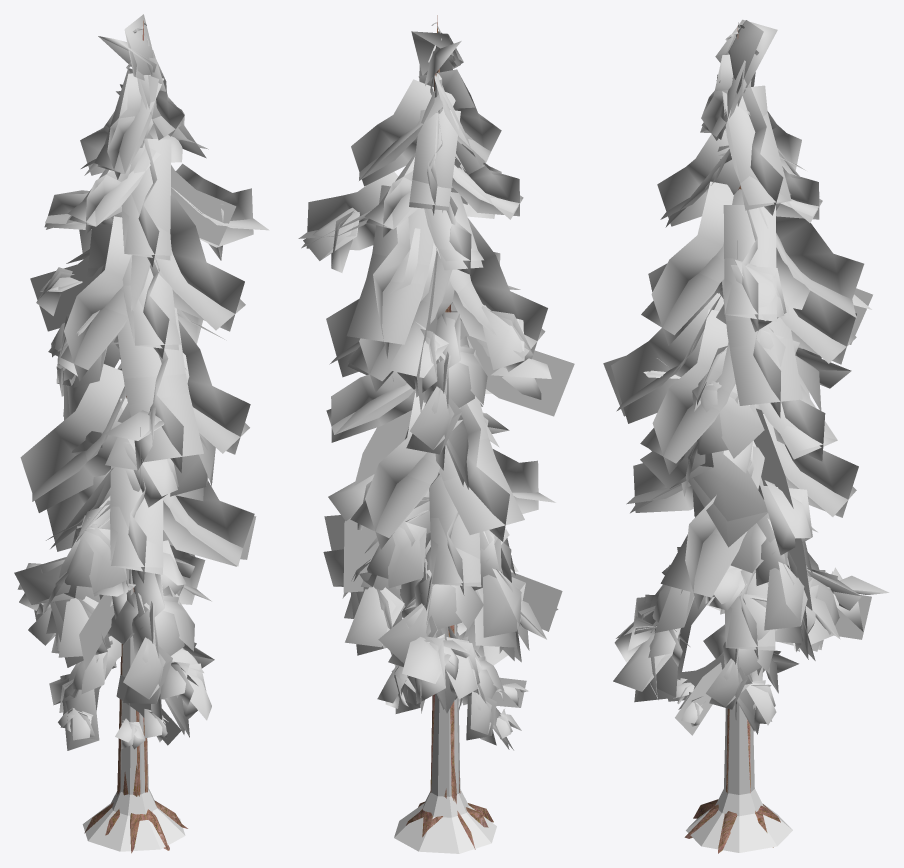
Rendered from redwood_tall.dae.
3 views of the same model, side by side, from view 1: azimuth 30°, elevation 25°; view 2: azimuth 150°, elevation 25°; view 3: azimuth 270°, elevation 25° (orthographic).
Parts seen in each view (by area): view 1: redwood_tall_a750, redwood_tall_a350, Colmesh_redwood_tall-1; view 2: redwood_tall_a350, redwood_tall_a750, Colmesh_redwood_tall-1; view 3: redwood_tall_a750, redwood_tall_a350, Colmesh_redwood_tall-1.
Part boxes in pixels (<box>): redwood_tall_a750: <box>14,14,269,853</box>; redwood_tall_a350: <box>19,31,264,850</box>; Colmesh_redwood_tall-1: <box>82,141,185,851</box>; redwood_tall_a350: <box>301,31,574,811</box>; redwood_tall_a750: <box>298,15,555,849</box>; Colmesh_redwood_tall-1: <box>394,74,496,853</box>; redwood_tall_a750: <box>603,19,888,845</box>; redwood_tall_a350: <box>611,20,889,853</box>; Colmesh_redwood_tall-1: <box>686,673,792,852</box>.
Bounding box in the file's own units: 11.01 × 12.12 × 38.5.
